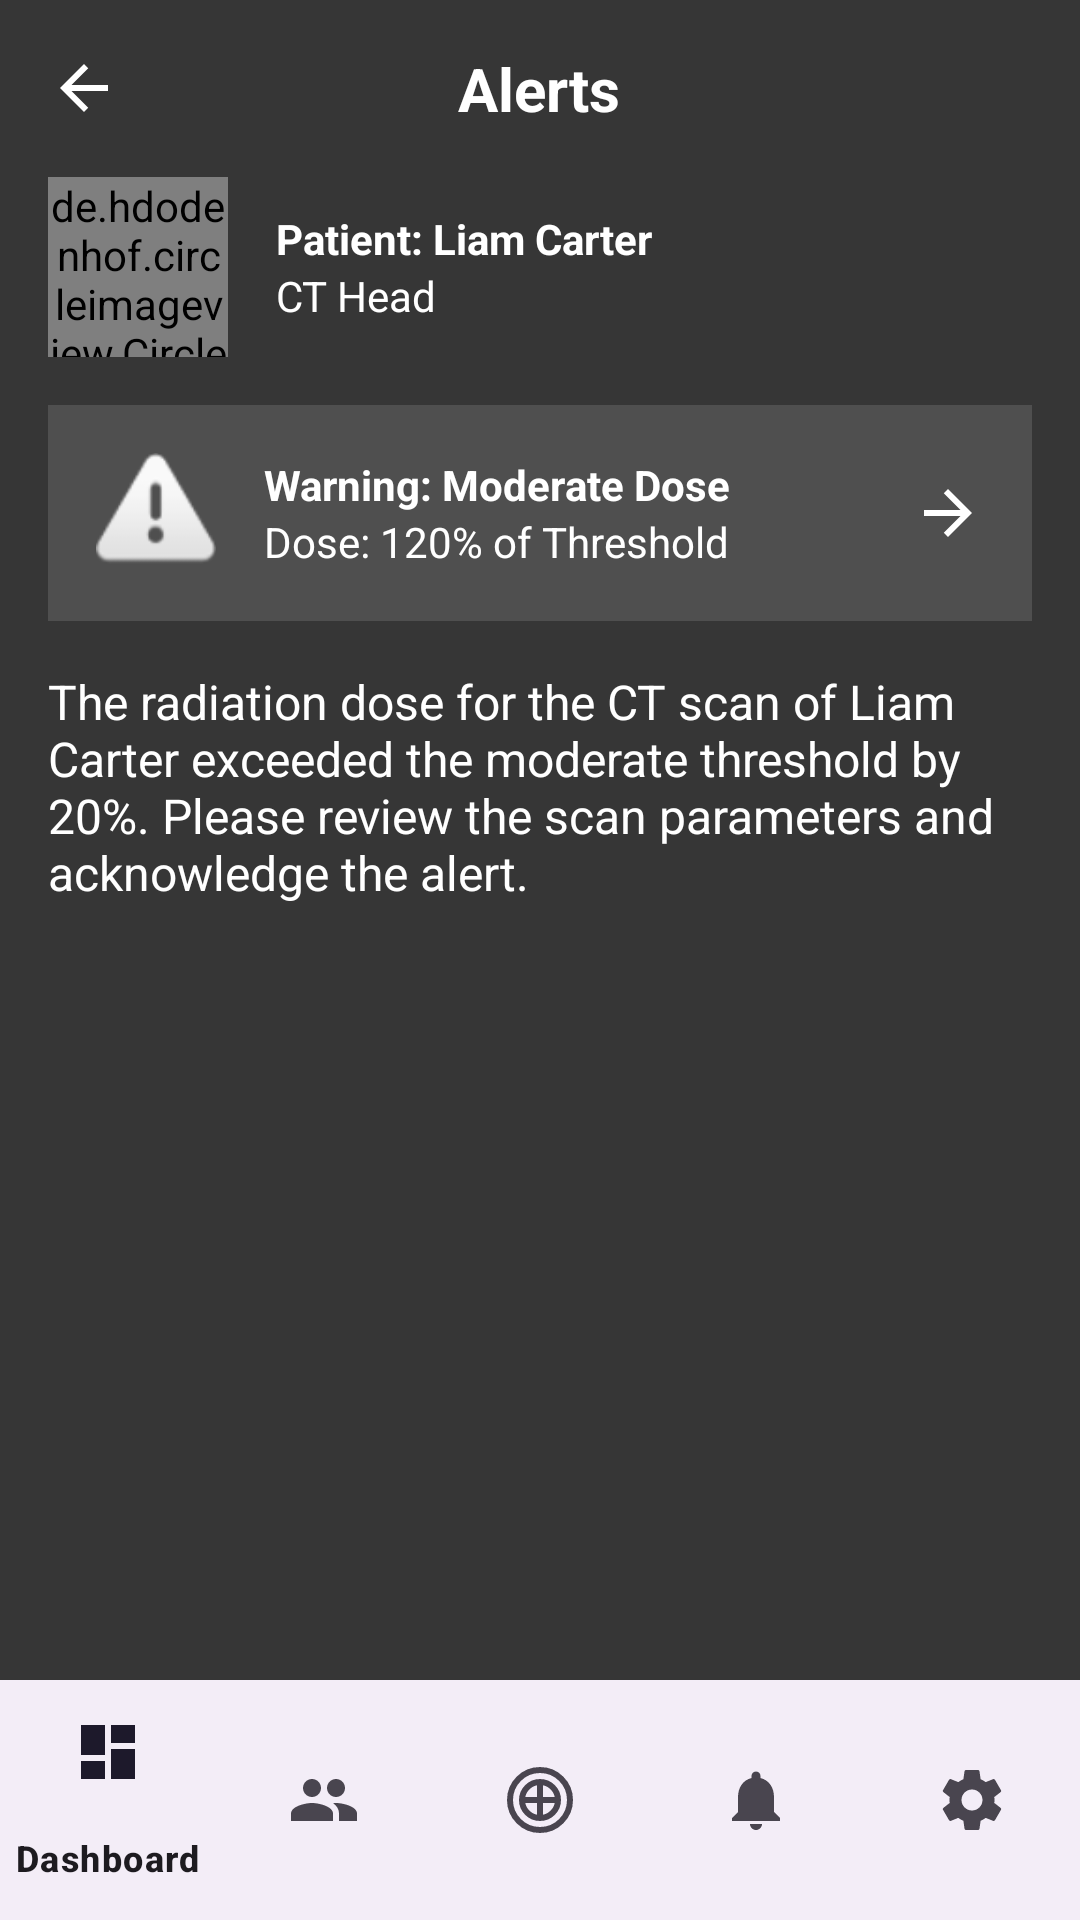

Icons on this 1080*1920 Android screen, each with its box as (x1, y1, x2, y2):
arrow back: (60, 64, 108, 112)
arrow forward: (924, 489, 972, 537)
